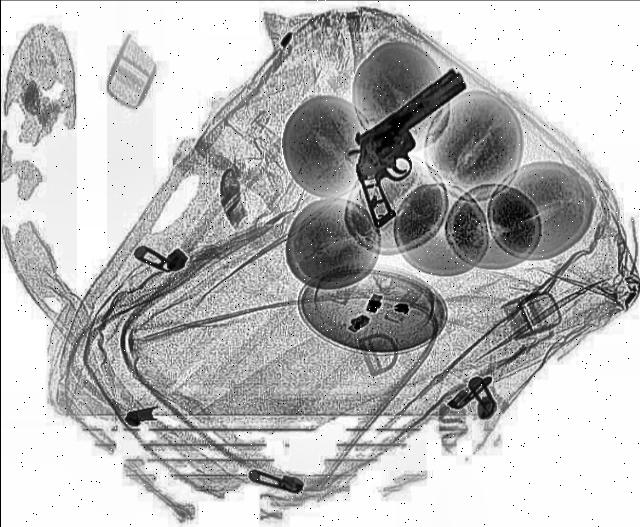Gun: (302, 63, 522, 227)
